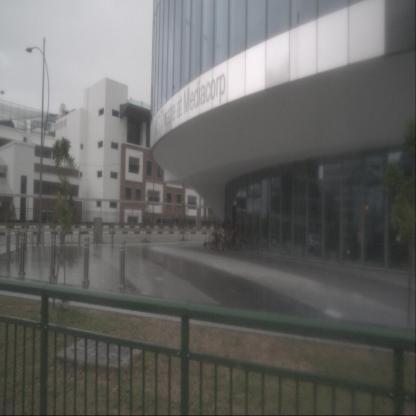vehicle-bicycle: (209, 218, 234, 249), (212, 222, 235, 250), (216, 226, 240, 251)
vehicle-car: (306, 234, 328, 255)
